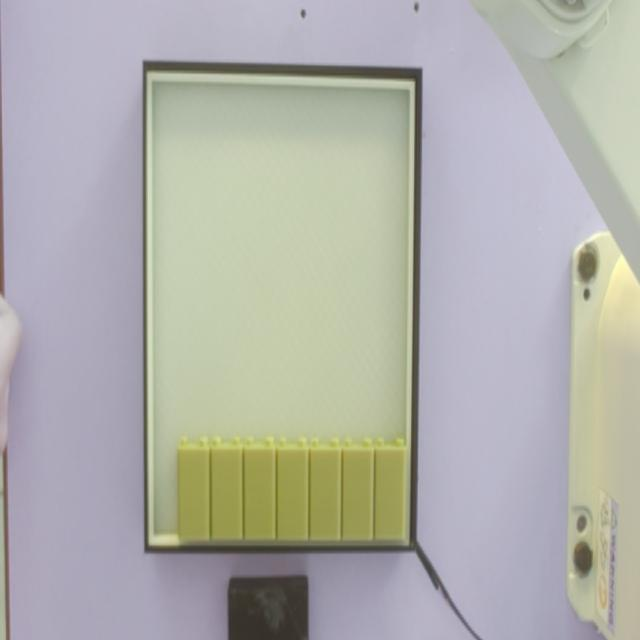bateria: (210, 437, 243, 541), (276, 437, 309, 541), (243, 437, 276, 540), (309, 438, 342, 541), (342, 438, 375, 541), (178, 437, 210, 541), (375, 438, 407, 542)
mesa: (144, 61, 422, 554)
